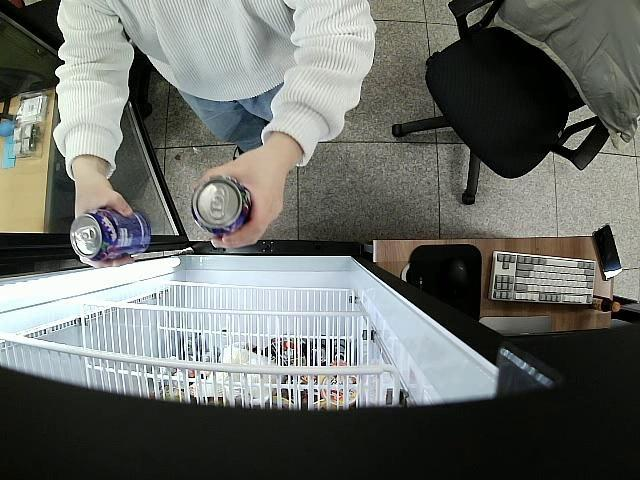14_welchsGrape: (70, 208, 151, 259), (192, 178, 253, 236)
